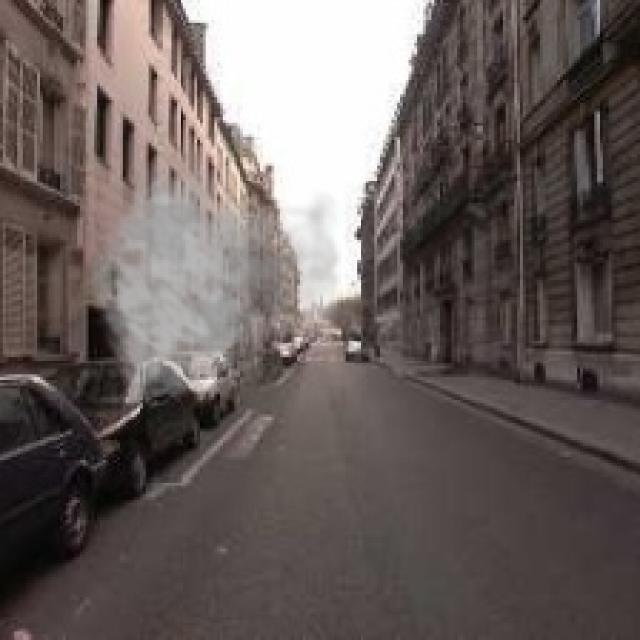Smoke: (88, 148, 360, 406)
